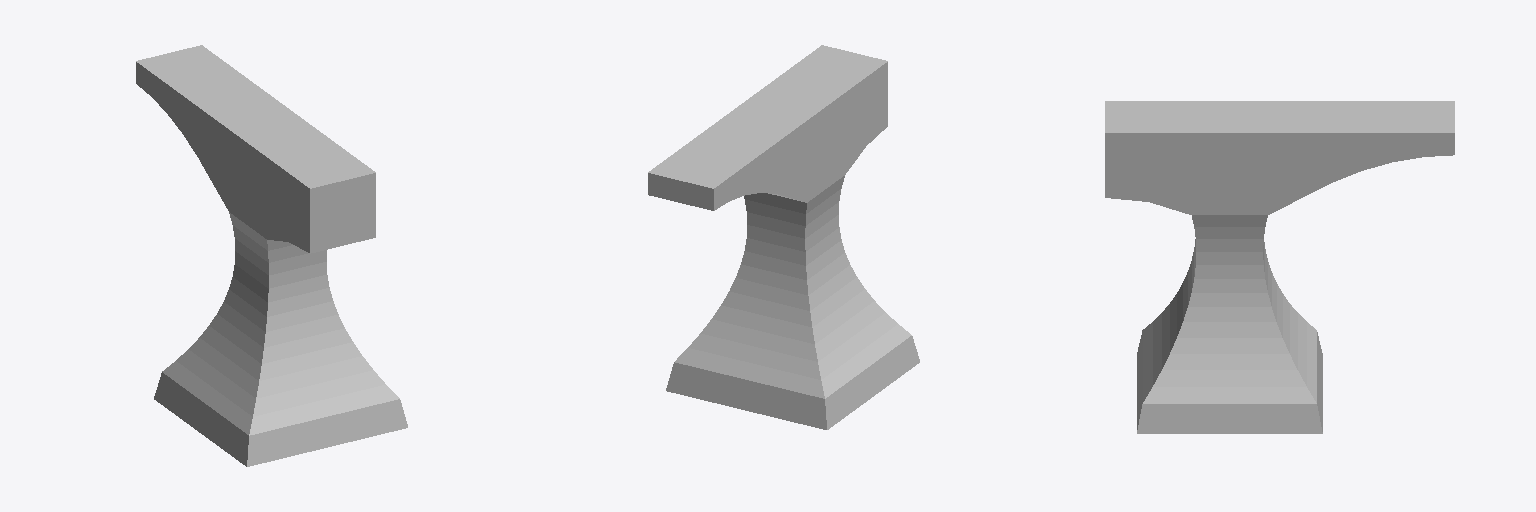
Rendered from Anvil.obj.
3 renders of one model, left to right at view 1: azimuth 30°, elevation 25°; view 2: azimuth 150°, elevation 25°; view 3: azimuth 270°, elevation 25°, orthographic.
Parts seen in each view (by area): view 1: Plane; view 2: Plane; view 3: Plane.
Boxes of the visible parts, box(x1,y1,x2,y2) form: Plane: box(136, 45, 407, 466); Plane: box(648, 45, 919, 429); Plane: box(1105, 101, 1454, 433).
Size of the model in its own units: 2 by 3.29 by 3.74.